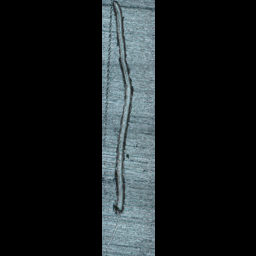d: (107, 0, 134, 218)
